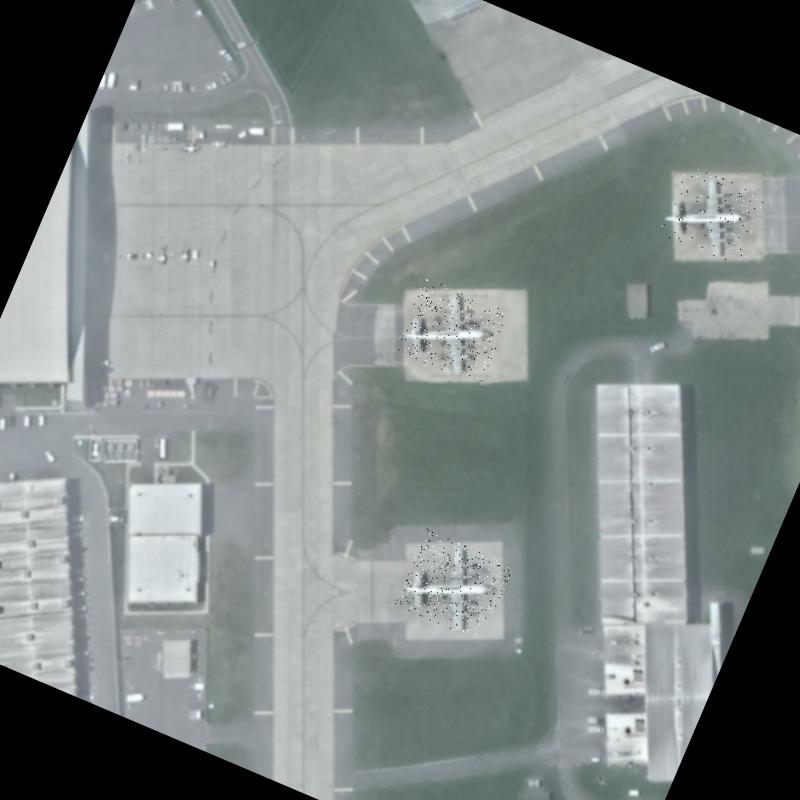A9: (394, 528, 514, 642), (393, 277, 510, 387), (657, 162, 767, 268)
